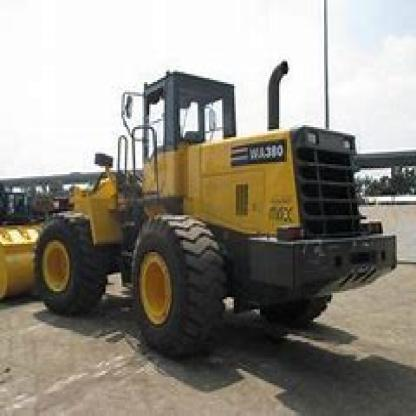bull_dozer/loader/grader: (1, 63, 406, 358)
